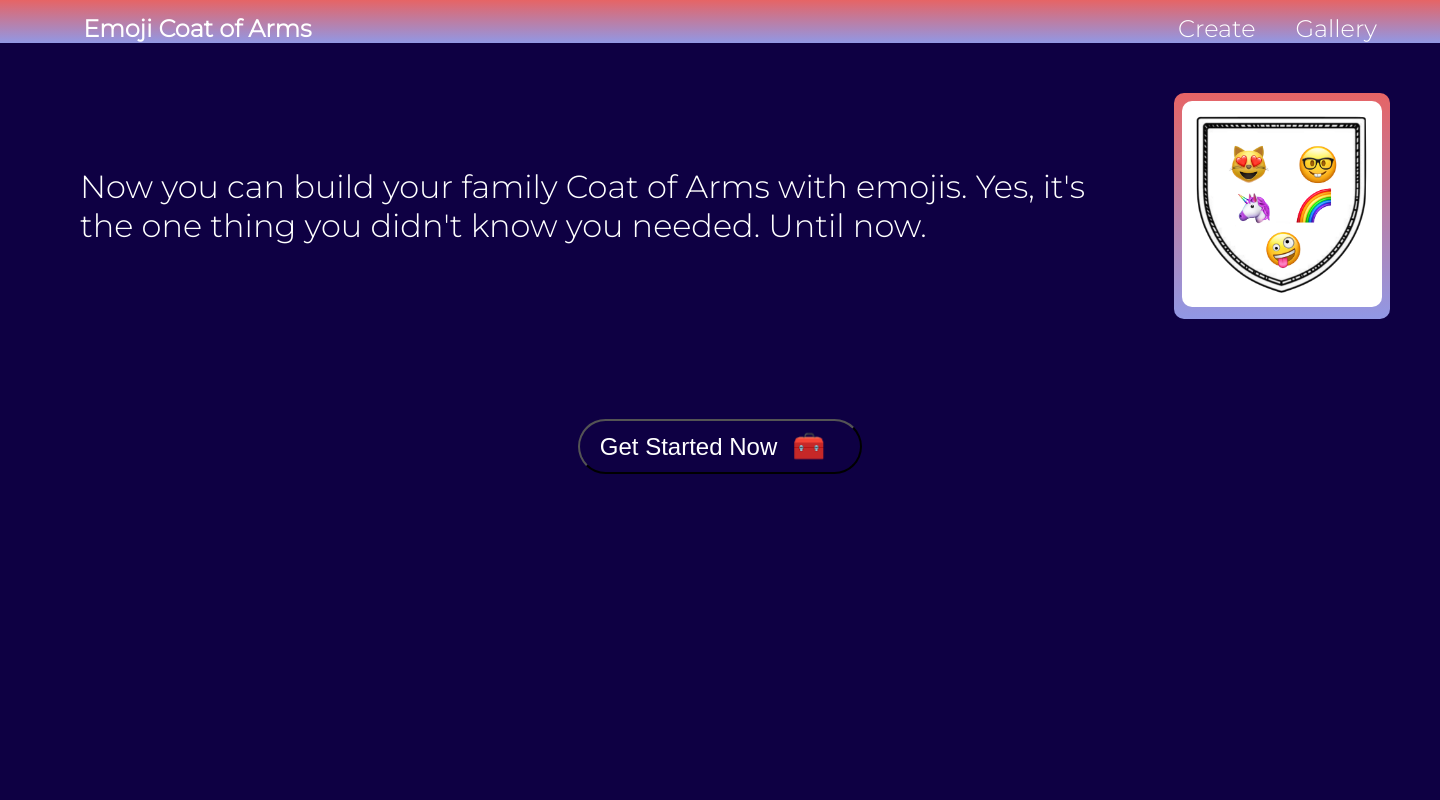
Test: Basic render and navigation › Should go to Create using Get Started button
The width and height of the screenshot is (1440, 800).
Click the button "Get Started Now🧰".
click(720, 447)  # box [578, 419, 862, 475]
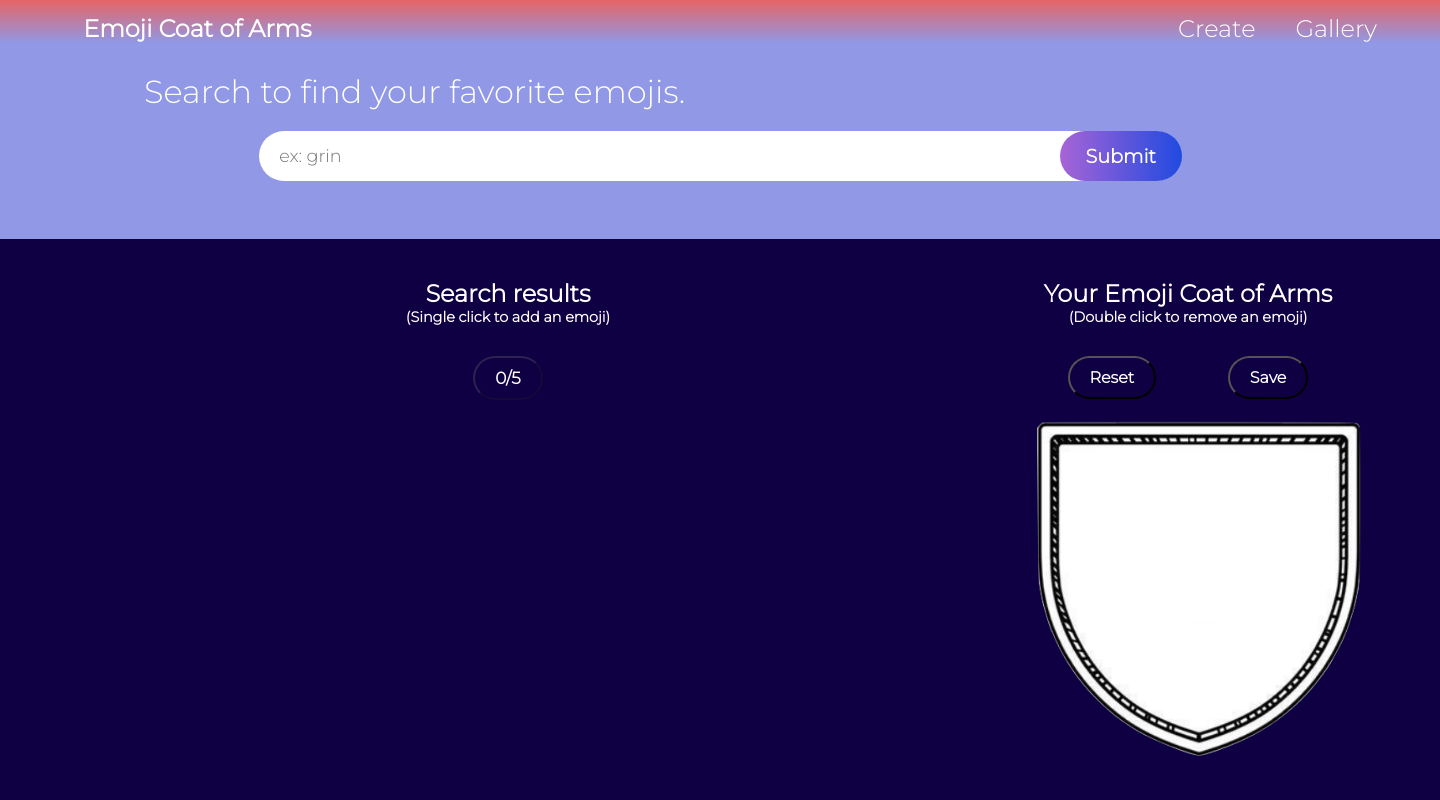
Result: the button "Submit" is shown at [1060, 131, 1182, 181]
